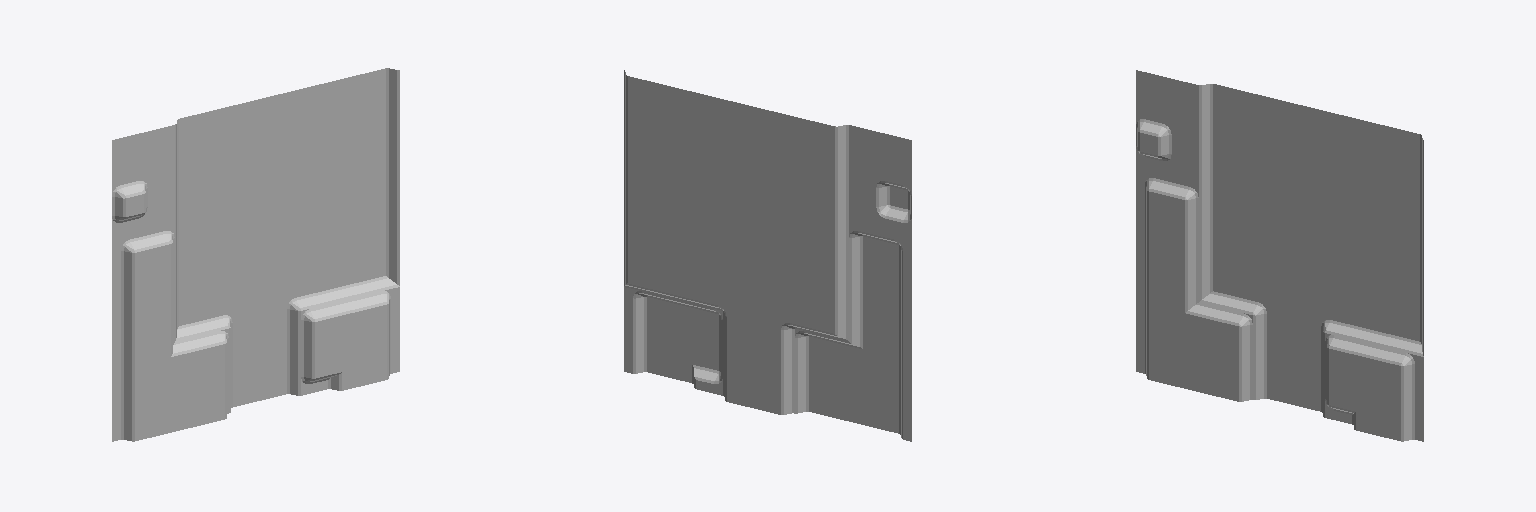
The model's file is Plat_full_08_11.obj.
The picture shows the model from 3 angles: view 1: azimuth 30°, elevation 25°; view 2: azimuth 150°, elevation 25°; view 3: azimuth 330°, elevation 25°; orthographic projection.
Visible parts, largest first — view 1: map; view 2: map; view 3: map.
Boxes of the visible parts, x1=… form: map: x1=112, y1=68, x2=399, y2=441; map: x1=624, y1=70, x2=911, y2=441; map: x1=1136, y1=70, x2=1423, y2=441.
Bounding box in the file's own units: 32 × 32 × 2.